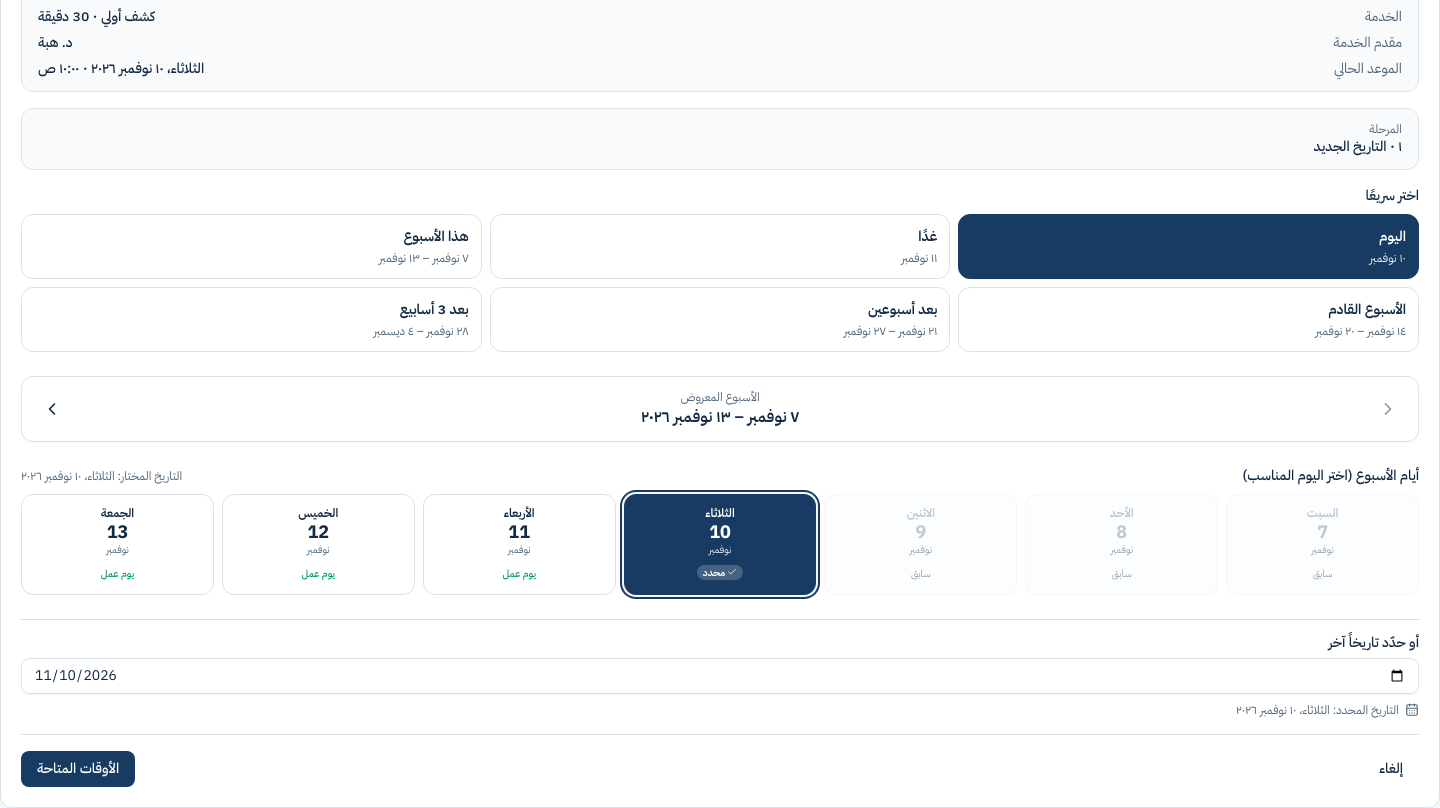
Test: ReschedulePanel mounted integration tests (ISS-005) › 11. renders honest error and retry state when eligibility query rejects
(page scrolled)
Click the button "الأوقات المتاحة": (78, 769) [21,751,135,787]
(page scrolled)
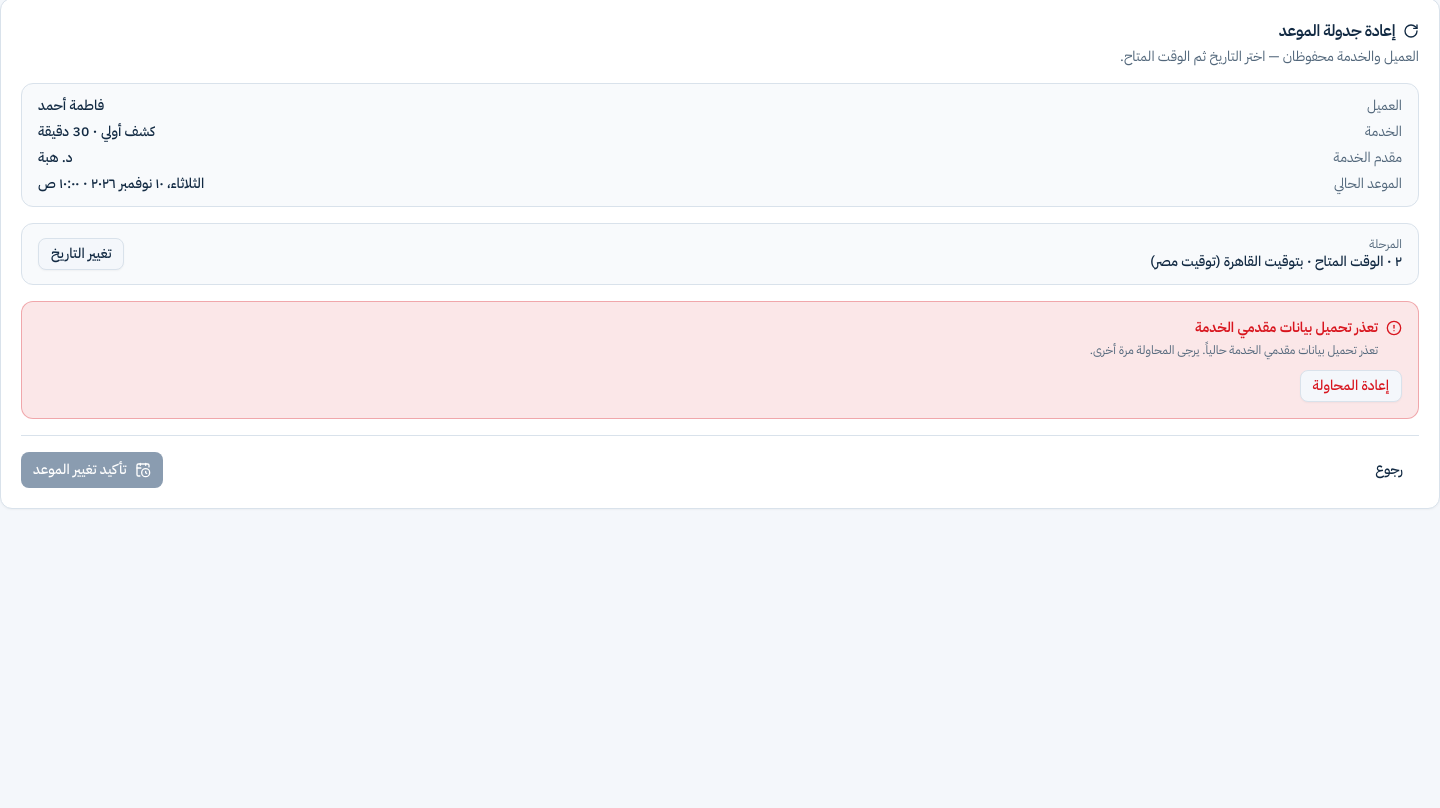
Check: the button "إعادة المحاولة" is shown, box [1300,370,1402,402]
Check: the text "تعذر تحميل بيانات مقدمي الخدمة" is shown, box [1195,317,1378,338]
